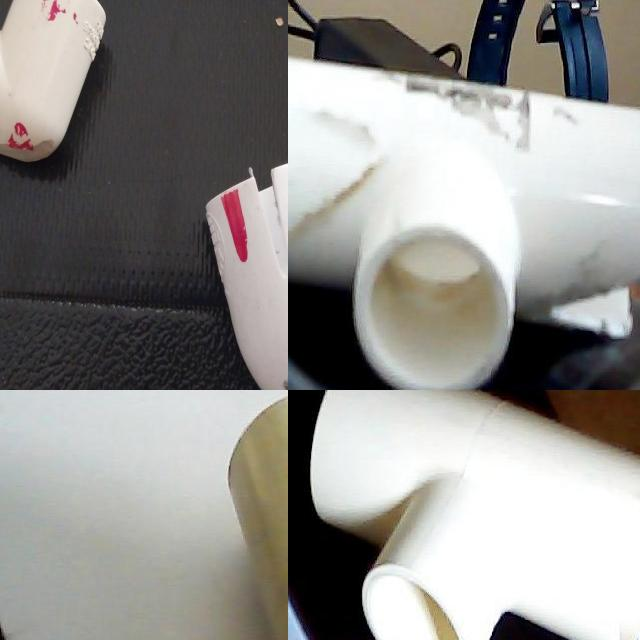Defective: (288, 161, 461, 301), (388, 80, 562, 150), (523, 263, 640, 359), (196, 6, 264, 74), (38, 253, 106, 311), (51, 354, 119, 390)
L Joint: (0, 239, 115, 390), (112, 0, 263, 107)
T Joint: (288, 55, 640, 390), (309, 390, 640, 640)
